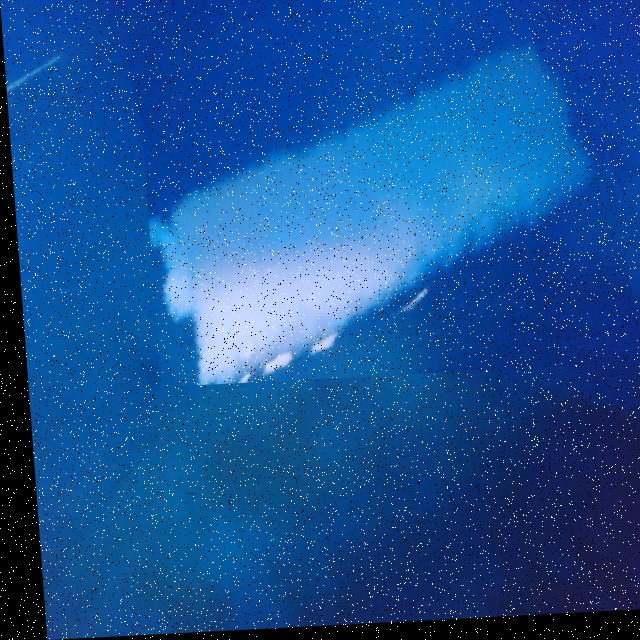litter: (135, 27, 628, 389)
